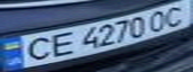0: (127, 14, 151, 38)
2: (97, 20, 118, 48)
4: (78, 24, 103, 52)
7: (112, 17, 133, 44)
C: (12, 34, 60, 63), (157, 2, 193, 28)
E: (42, 29, 81, 58)
O: (142, 8, 175, 34)
